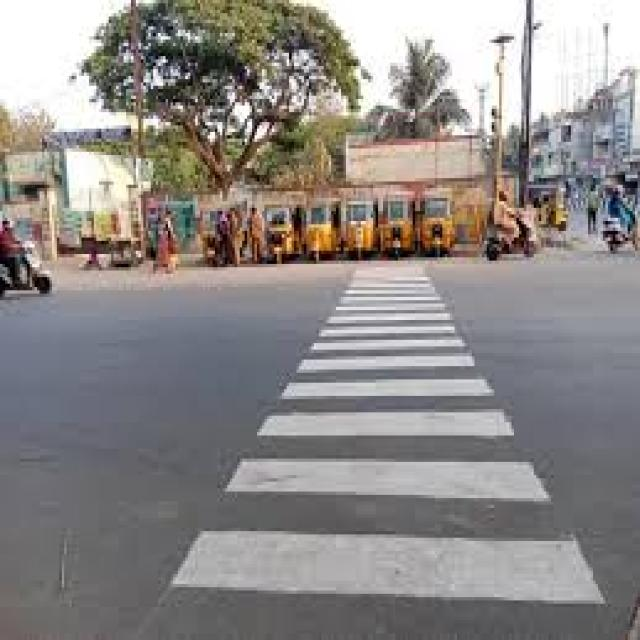auto ahead at: (414, 190, 459, 253), (375, 190, 414, 258), (337, 193, 375, 256)
motorcycle ahead at: (1, 216, 56, 303), (480, 190, 544, 264)
person ahead at: (150, 207, 179, 275)
zebra crossing ahead at: (156, 254, 617, 613)
